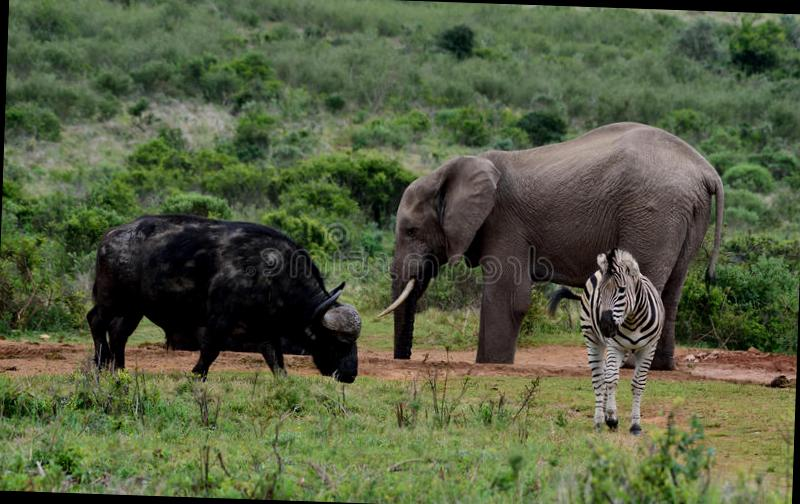Buffalo: (0, 230, 370, 403)
